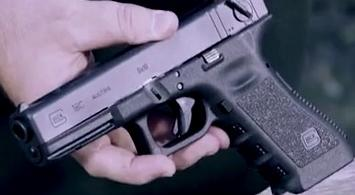gun: (1, 1, 355, 195)
